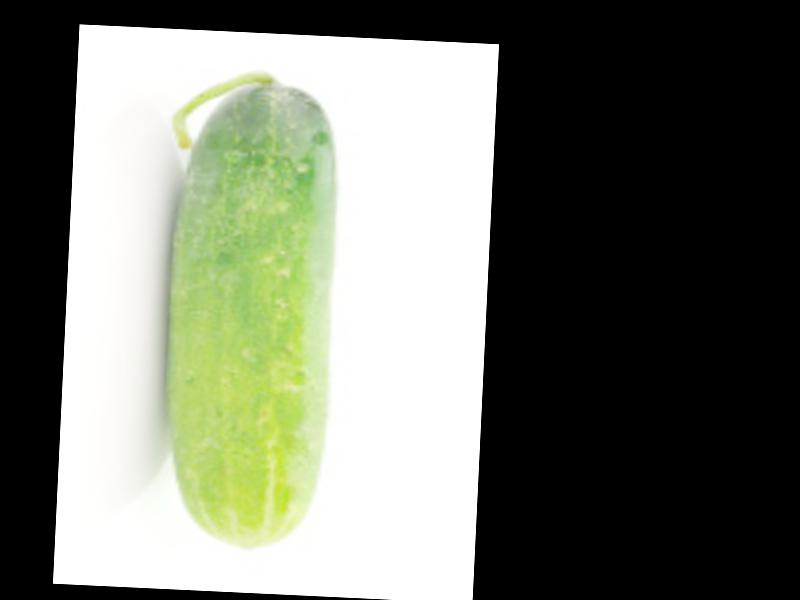Cucumber: (152, 71, 343, 557)
